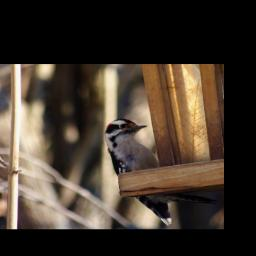Woodpecker: (105, 118, 217, 224)
